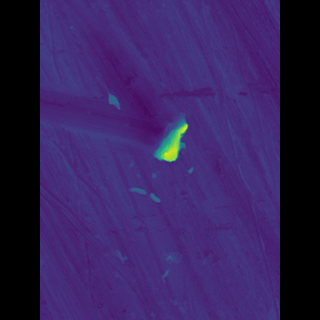Loch: (151, 108, 185, 169), (159, 247, 178, 271)
